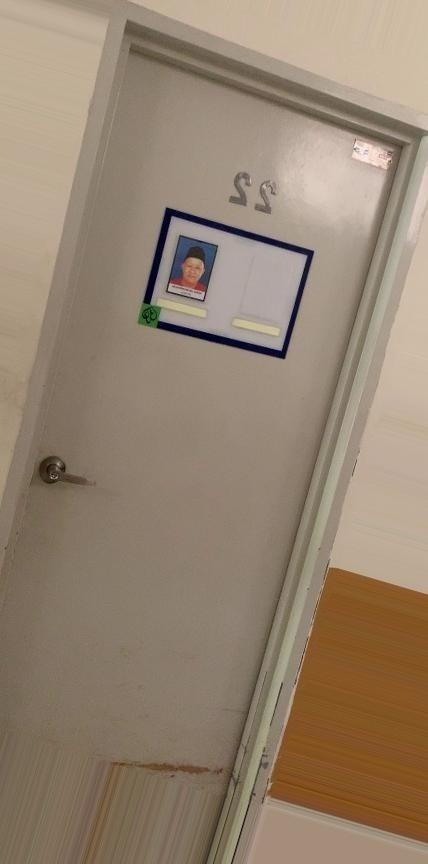door: (0, 9, 428, 864)
